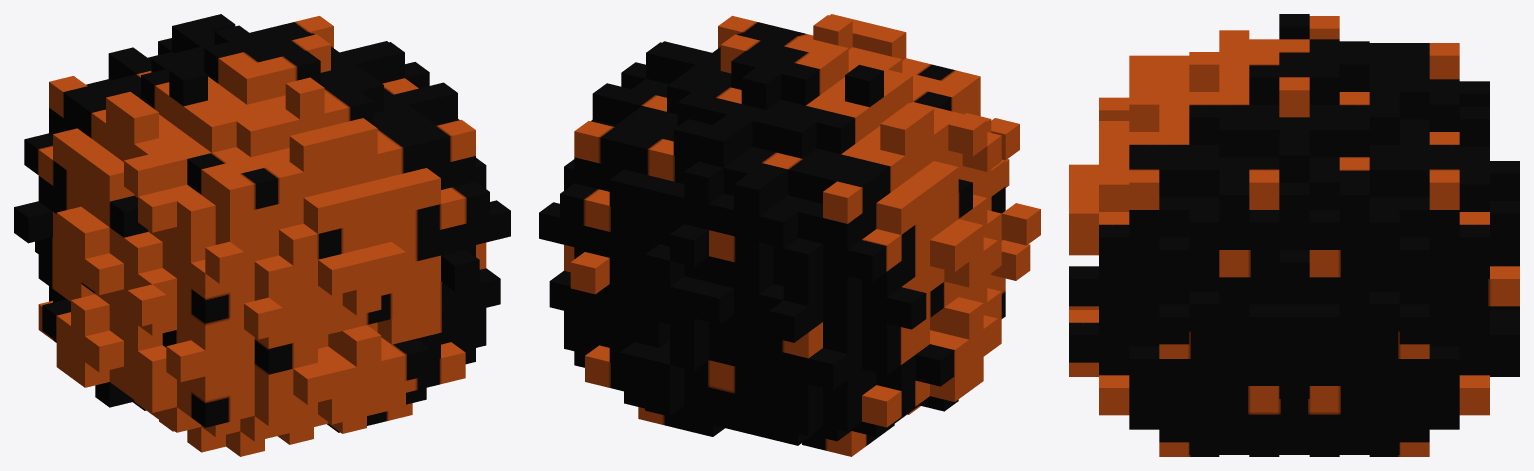
Rendered from TreeFoliageRed.obj.
The picture shows the model from 3 angles, left to right: view 1: azimuth 30°, elevation 25°; view 2: azimuth 150°, elevation 25°; view 3: azimuth 270°, elevation 25°; orthographic projection. The views are drawn at different scales.
Visible parts, largest first — view 1: TreeFoliage; view 2: TreeFoliage; view 3: TreeFoliage.
Boxes of the visible parts, x1,y1,x2,y2 form: TreeFoliage: [14, 14, 510, 456]; TreeFoliage: [539, 14, 1040, 456]; TreeFoliage: [1069, 14, 1519, 456].
Size of the model in its own units: 1.5 by 1.3 by 1.5.
1 material, 1 textured.
